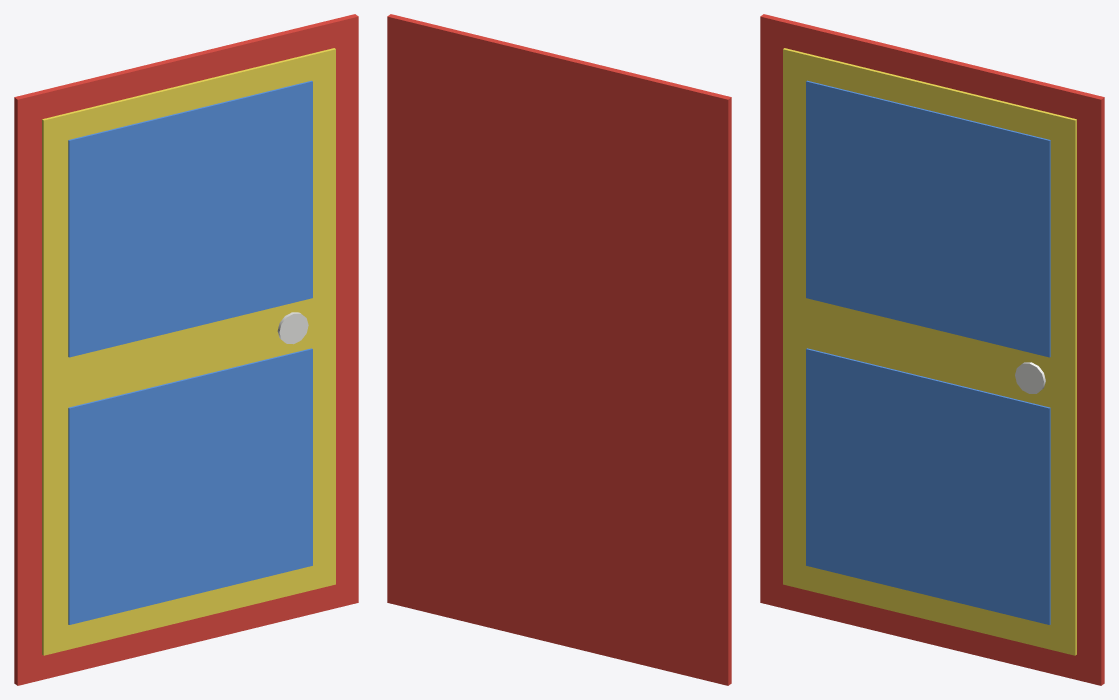
File: ToyDoor.fbx
3 renders of one model, left to right at view 1: azimuth 30°, elevation 25°; view 2: azimuth 150°, elevation 25°; view 3: azimuth 330°, elevation 25°, orthographic.
Parts seen in each view (by area): view 1: ToyDoor; view 2: ToyDoor; view 3: ToyDoor.
Boxes of the visible parts, x1,y1,x2,y2 form: ToyDoor: (14,14,358,685); ToyDoor: (387,14,731,685); ToyDoor: (760,14,1104,685).
Size of the model in its own units: 1.4 by 2.3 by 0.05.
